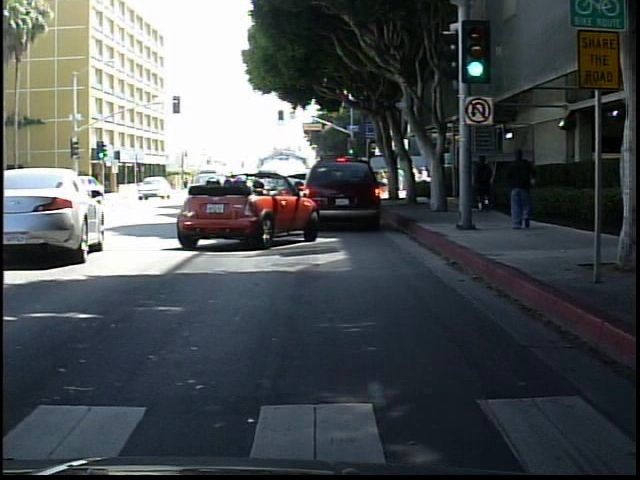person: (504, 140, 540, 233), (472, 149, 501, 219)
